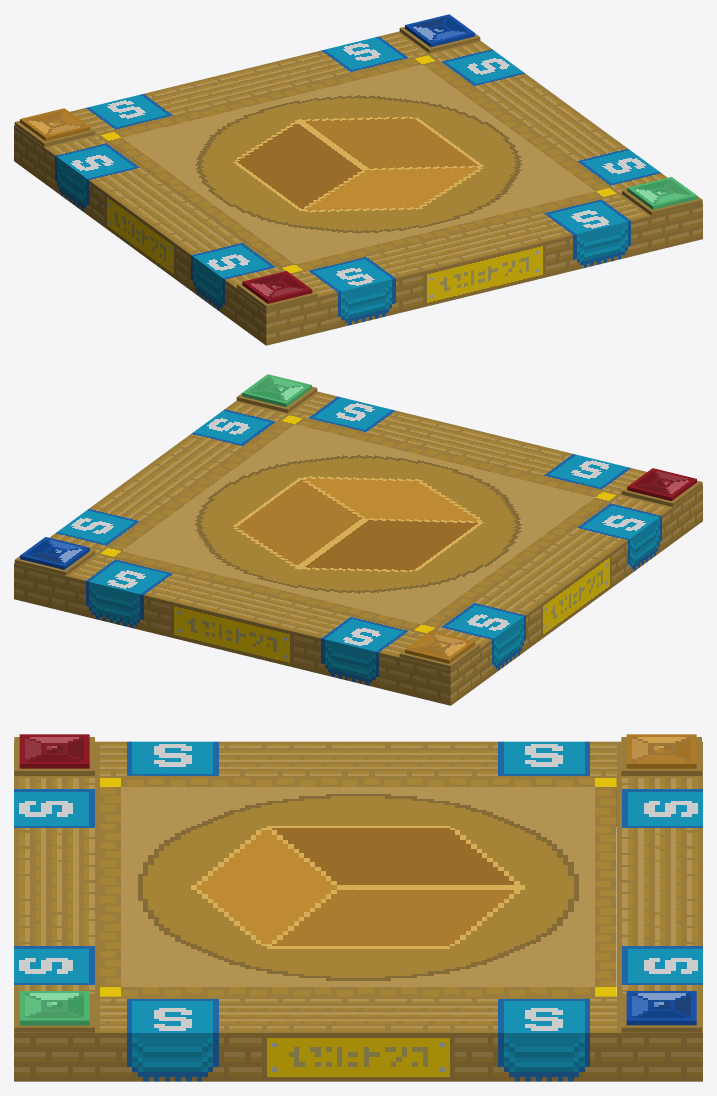
Rendered from c72dda90-1ed3-4555-87c5-dffcda747034.gltf.
3 renders of one model, top to bottom at view 1: azimuth 30°, elevation 25°; view 2: azimuth 150°, elevation 25°; view 3: azimuth 270°, elevation 25°, orthographic. The views are drawn at different scales.
Parts seen in each view (by area): view 1: Border-Local, Base-Local, C3-Local, C4-Local, C1-Local, C2-Local; view 2: Border-Local, Base-Local, C1-Local, C2-Local, C3-Local, C4-Local; view 3: Base-Local, Border-Local, C1-Local, C3-Local, C2-Local, C4-Local.
Boxes of the visible parts, <box> form: Border-Local: <box>14,31,702,345</box>; Base-Local: <box>100,55,616,273</box>; C3-Local: <box>399,14,480,53</box>; C4-Local: <box>14,108,95,146</box>; C1-Local: <box>622,177,702,215</box>; C2-Local: <box>237,271,317,309</box>; Border-Local: <box>14,391,702,705</box>; Base-Local: <box>100,415,616,633</box>; C1-Local: <box>236,374,317,412</box>; C2-Local: <box>621,468,702,506</box>; C3-Local: <box>14,537,95,575</box>; C4-Local: <box>399,631,480,669</box>; Base-Local: <box>100,778,616,996</box>; Border-Local: <box>14,741,702,1081</box>; C1-Local: <box>14,991,94,1032</box>; C3-Local: <box>621,991,701,1032</box>; C2-Local: <box>14,734,94,775</box>; C4-Local: <box>621,734,701,775</box>.
Size of the model in its own units: 128 by 12.02 by 128.
Materials: 6 (6 with a texture image).
